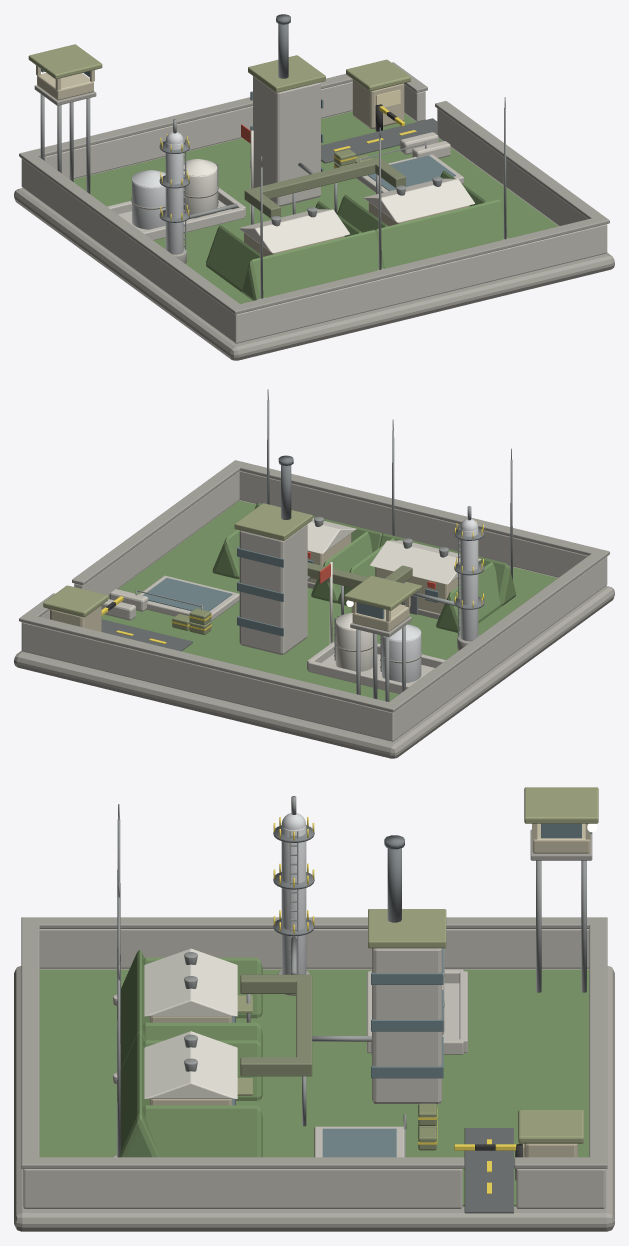
File: tnt_8.glb
3 views of the same model, one above another, from view 1: azimuth 30°, elevation 25°; view 2: azimuth 150°, elevation 25°; view 3: azimuth 270°, elevation 25° (orthographic). The views are drawn at different scales.
Parts seen in each view (by area): view 1: Cube.001, Cube, Cube.090, Cube.052, Cube.088, Cube.092, prism, prism.004, Cube.096, Cube.091, Cube.093, prism.007 (+25 smaller); view 2: Cube.001, Cube, Cube.088, Cube.090, Cube.052, Cube.092, Cube.096, Cube.089, Cube.091, Cube.093, Cube.097, prism.003 (+21 smaller); view 3: Cube.001, Cube, Cube.096, Cube.092, Cube.052, prism.006, prism.003, prism.007, Cube.097, Cube.093, Cube.091, Cube.089 (+30 smaller).
Part boxes in pixels (left/top/right/bottom): Cube.001: left=73, top=111, right=558, bottom=303; Cube: left=14, top=111, right=614, bottom=360; Cube.090: left=231, top=224, right=607, bottom=343; Cube.052: left=253, top=76, right=320, bottom=206; Cube.088: left=21, top=81, right=352, bottom=188; Cube.092: left=24, top=160, right=231, bottom=340; prism: left=242, top=230, right=383, bottom=300; prism.004: left=376, top=199, right=509, bottom=268; Cube.096: left=437, top=108, right=587, bottom=225; Cube.091: left=228, top=215, right=609, bottom=314; Cube.093: left=22, top=153, right=242, bottom=310; prism.007: left=363, top=178, right=474, bottom=222; Cube.001: left=101, top=500, right=557, bottom=701; Cube: left=14, top=500, right=614, bottom=758; Cube.088: left=21, top=622, right=396, bottom=741; Cube.090: left=239, top=470, right=607, bottom=586; Cube.052: left=239, top=524, right=307, bottom=654; Cube.092: left=396, top=559, right=603, bottom=738; Cube.096: left=74, top=471, right=239, bottom=595; Cube.089: left=19, top=613, right=400, bottom=712; Cube.091: left=230, top=460, right=609, bottom=558; Cube.093: left=386, top=551, right=606, bottom=709; Cube.097: left=72, top=462, right=242, bottom=585; prism.003: left=370, top=540, right=481, bottom=584; Cube.001: left=39, top=969, right=589, bottom=1206; Cube: left=14, top=966, right=614, bottom=1231; Cube.096: left=32, top=1169, right=462, bottom=1208; Cube.092: left=39, top=929, right=589, bottom=968; Cube.052: left=372, top=948, right=441, bottom=1103; prism.006: left=142, top=1105, right=262, bottom=1157; prism.003: left=144, top=948, right=237, bottom=1016; prism.007: left=144, top=1031, right=237, bottom=1098; Cube.097: left=29, top=1157, right=464, bottom=1168; Cube.093: left=29, top=917, right=598, bottom=928; Cube.091: left=21, top=917, right=39, bottom=1168; Cube.089: left=589, top=917, right=607, bottom=1168.
Bounding box in the file's own units: 2.92 × 1.43 × 2.92.
